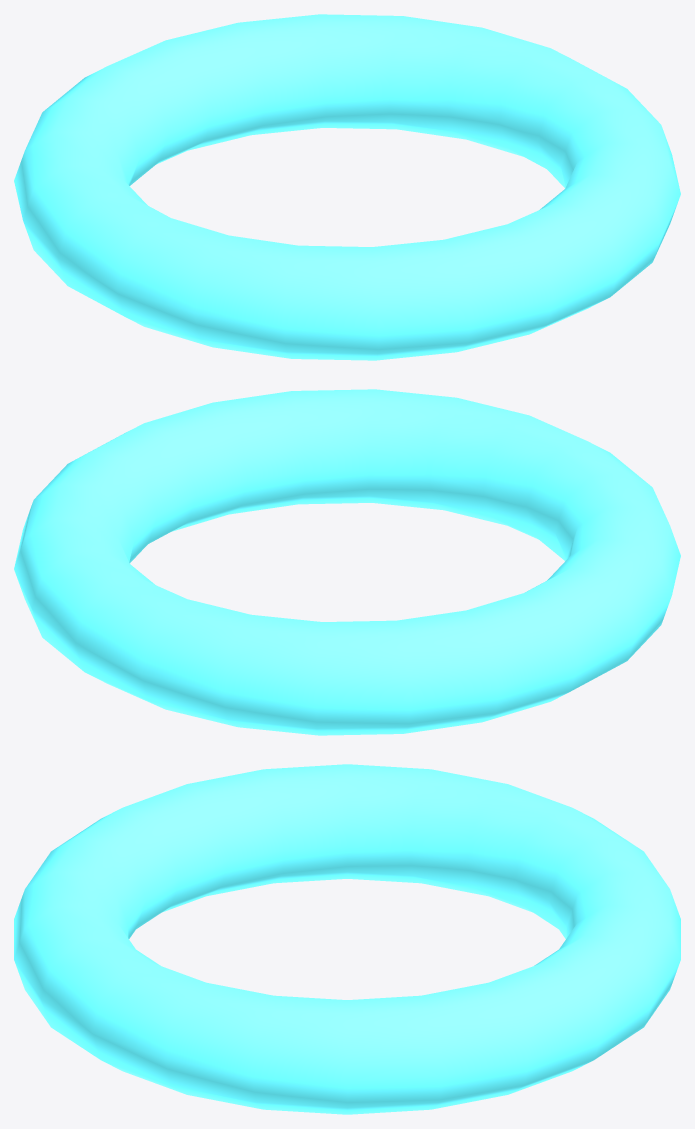
File: emp.glb
The picture shows the model from 3 angles, top to bottom: view 1: azimuth 30°, elevation 25°; view 2: azimuth 150°, elevation 25°; view 3: azimuth 270°, elevation 25°; orthographic projection.
Parts seen in each view (by area): view 1: emp; view 2: emp; view 3: emp.
Boxes of the visible parts, bbox=[...] form: emp: bbox=[14, 14, 680, 360]; emp: bbox=[14, 389, 680, 735]; emp: bbox=[14, 764, 680, 1114].
Bounding box in the file's own units: 1.4 × 0.2283 × 1.39.
